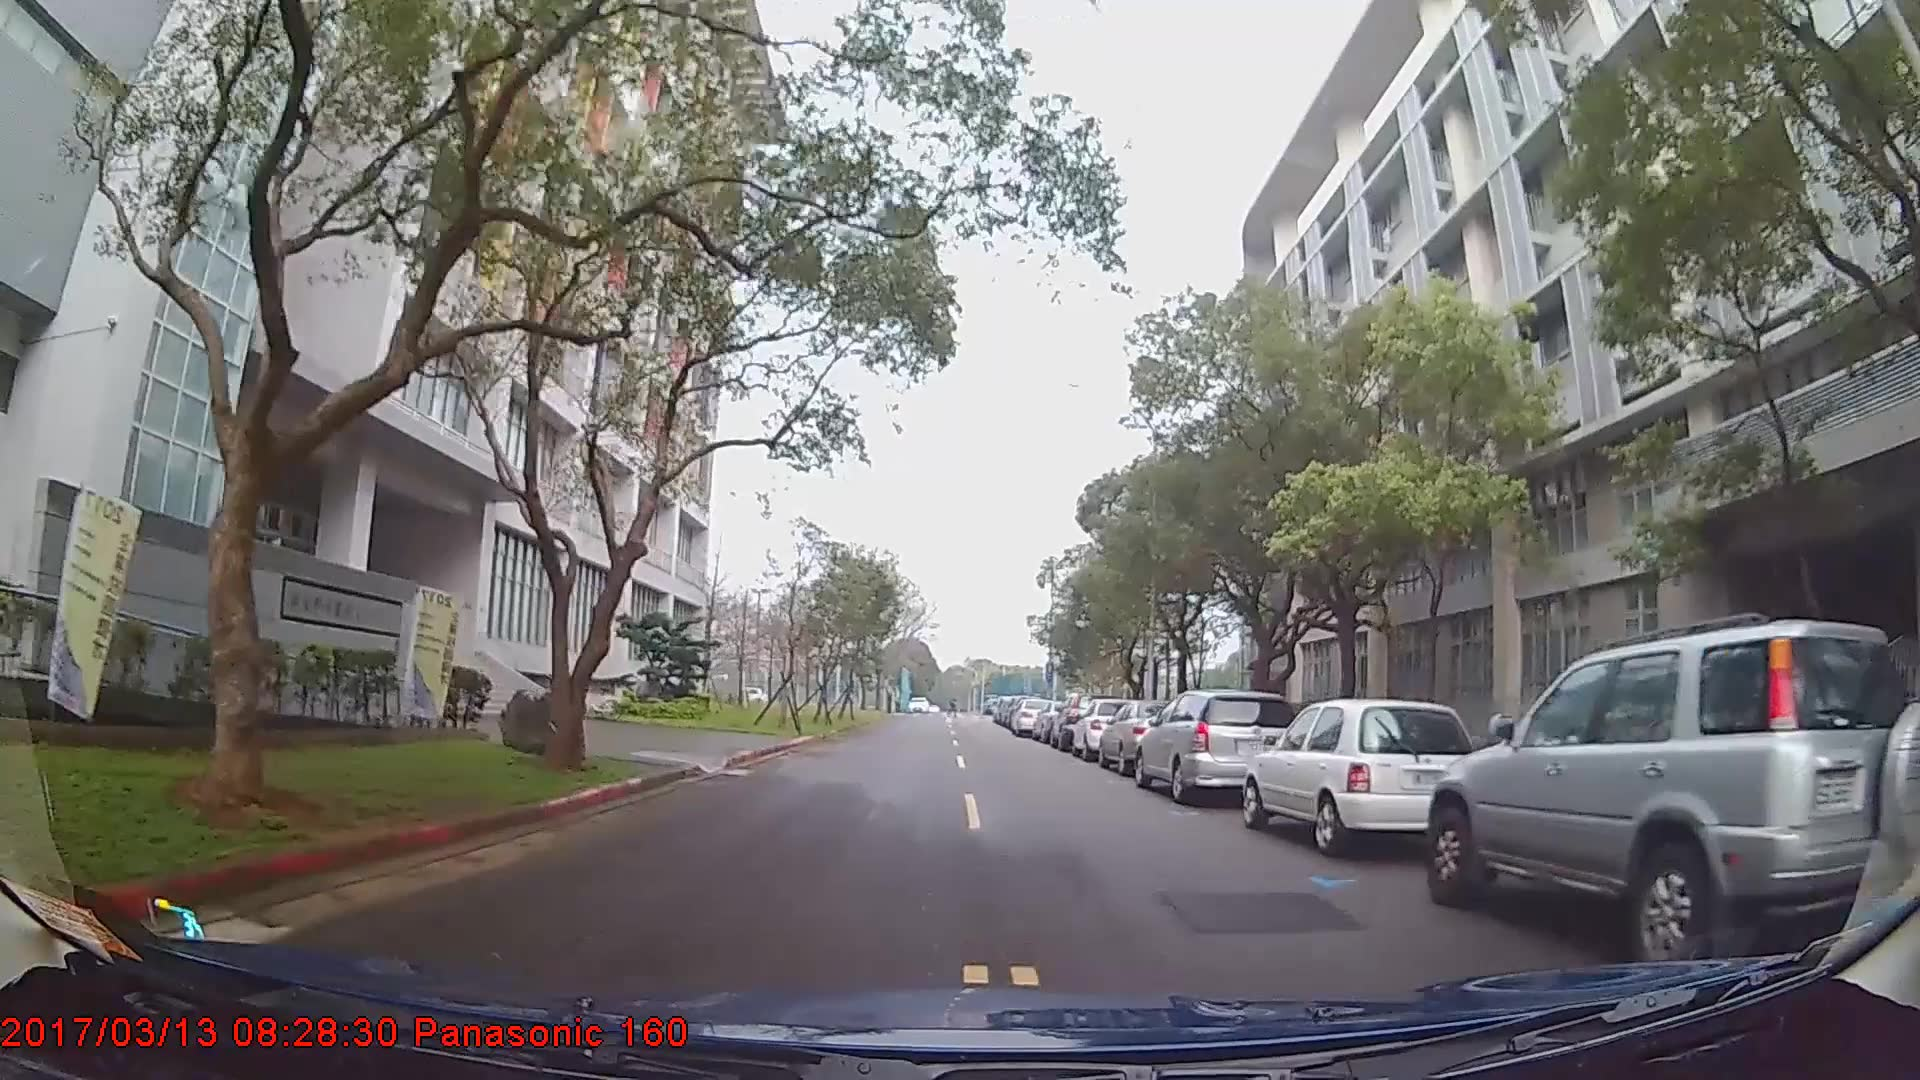vehicle: (1425, 615, 1920, 975), (1242, 695, 1481, 856), (1130, 688, 1302, 802), (1096, 694, 1193, 771), (1007, 694, 1054, 736)
